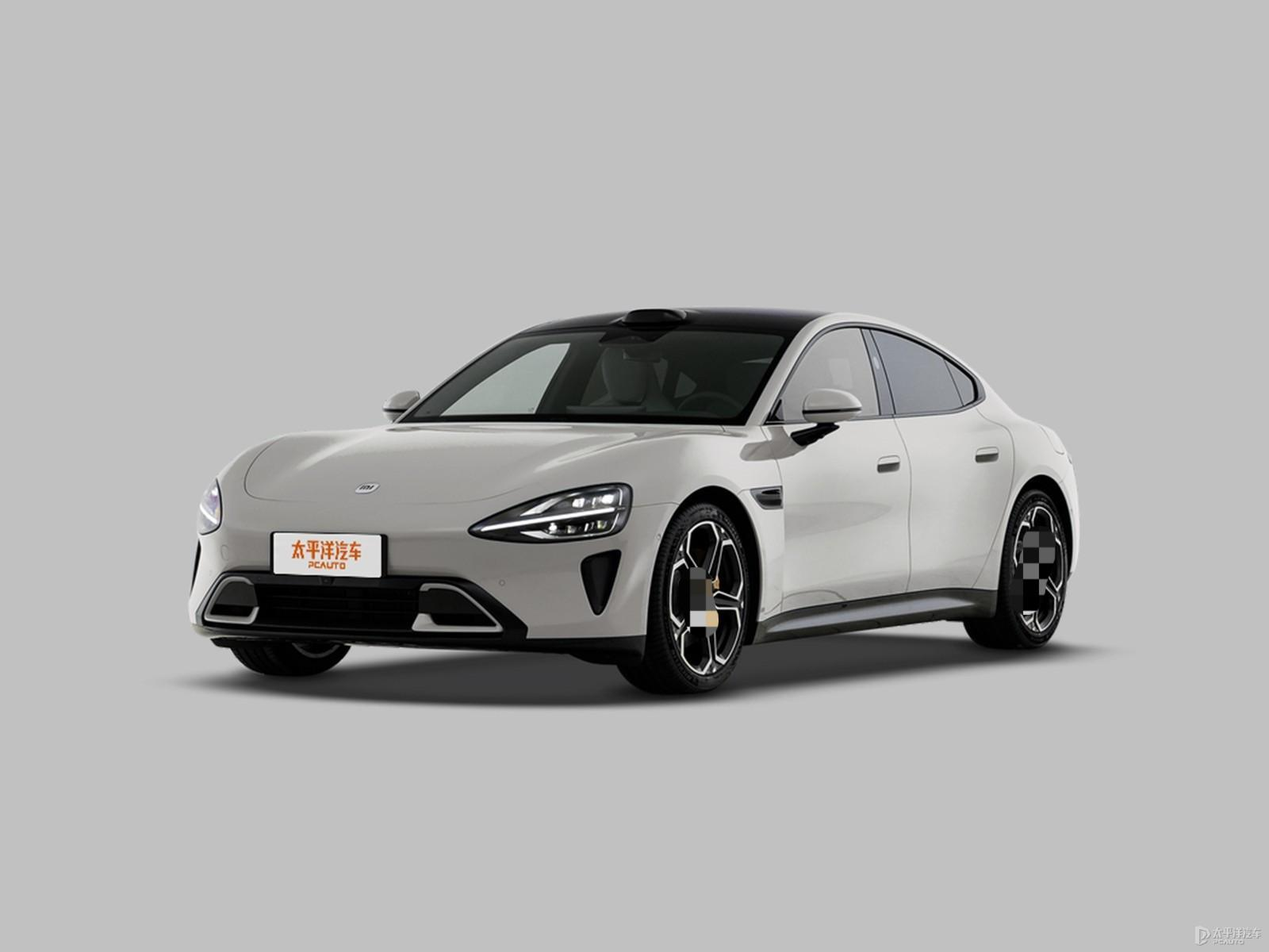XIAOMI: (355, 482, 381, 493)
